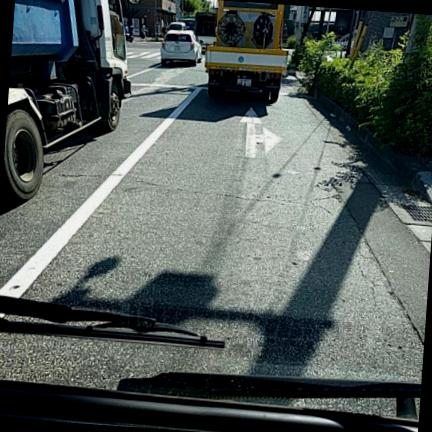Road: (0, 42, 429, 388)
